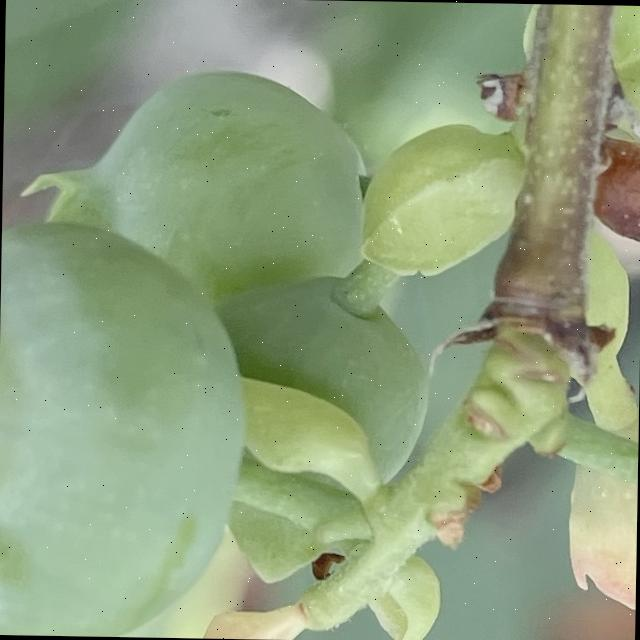Blueberries: (0, 214, 254, 638)
